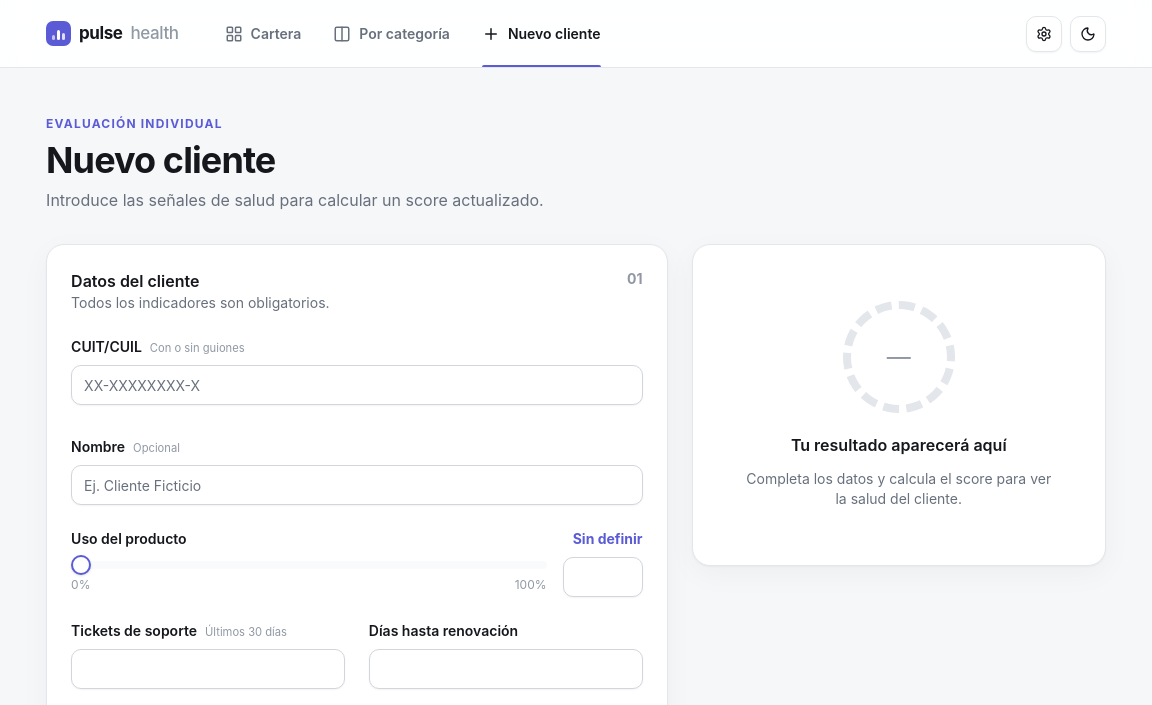
Test: Alta desde la app (US1, spec 004) › usa Cliente nuevo si el cliente no tiene nombre
This screenshot has width=1152, height=705.
expect the heading "Datos del cliente" is shown: met, box [71, 271, 200, 291]
In the field labelled "CUIT/CUIL": (357, 385) [71, 365, 643, 405], type "20-90000024-4"
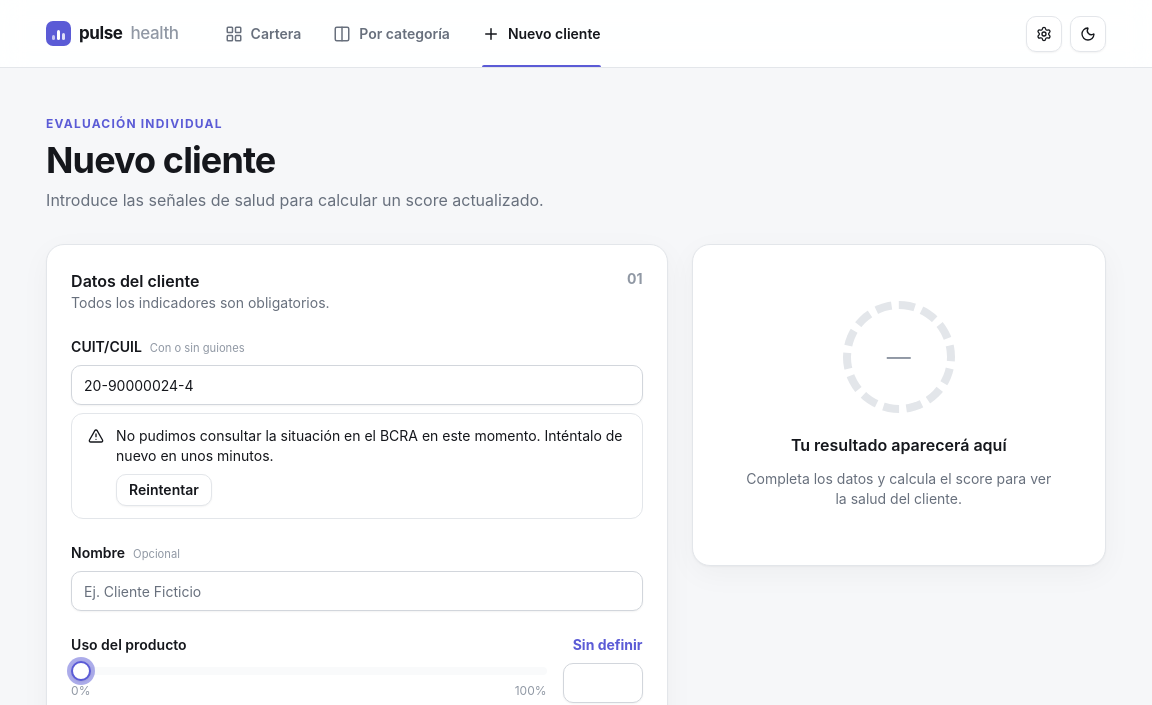
Press Arrowright
(page scrolled)
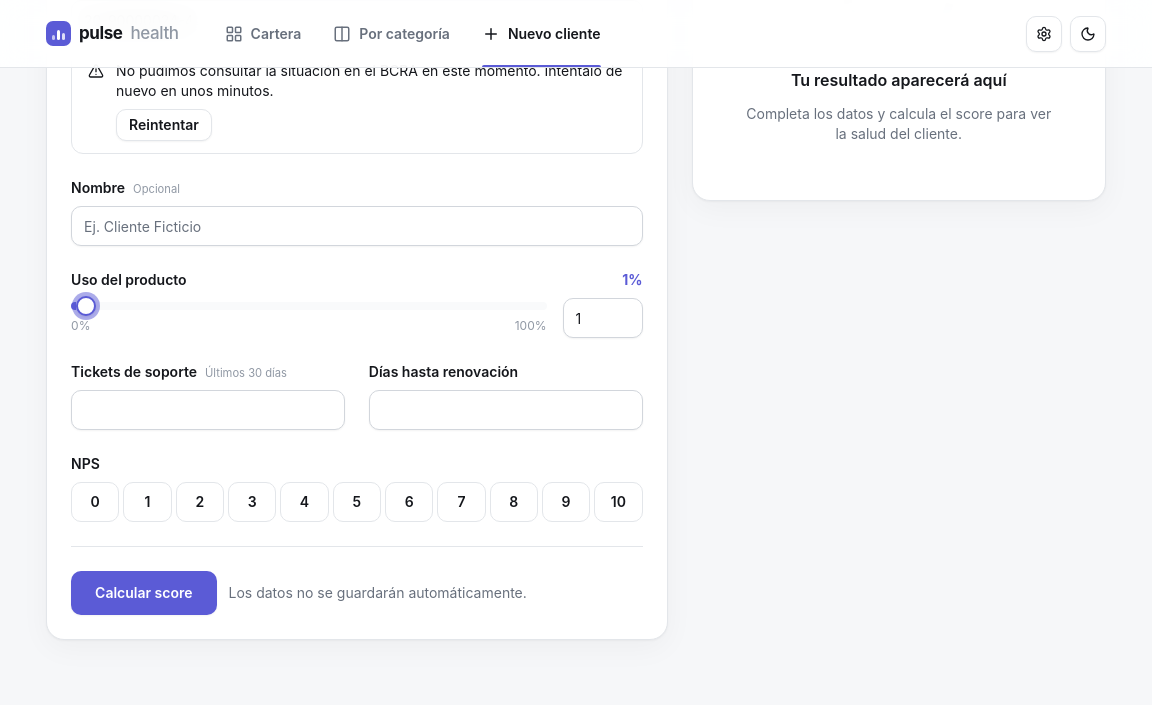
In the number field labelled "Tickets de soporte": (208, 410) [71, 390, 345, 430], type "0"
In the number field labelled "Días hasta renovación": (506, 410) [369, 390, 643, 430], type "300"
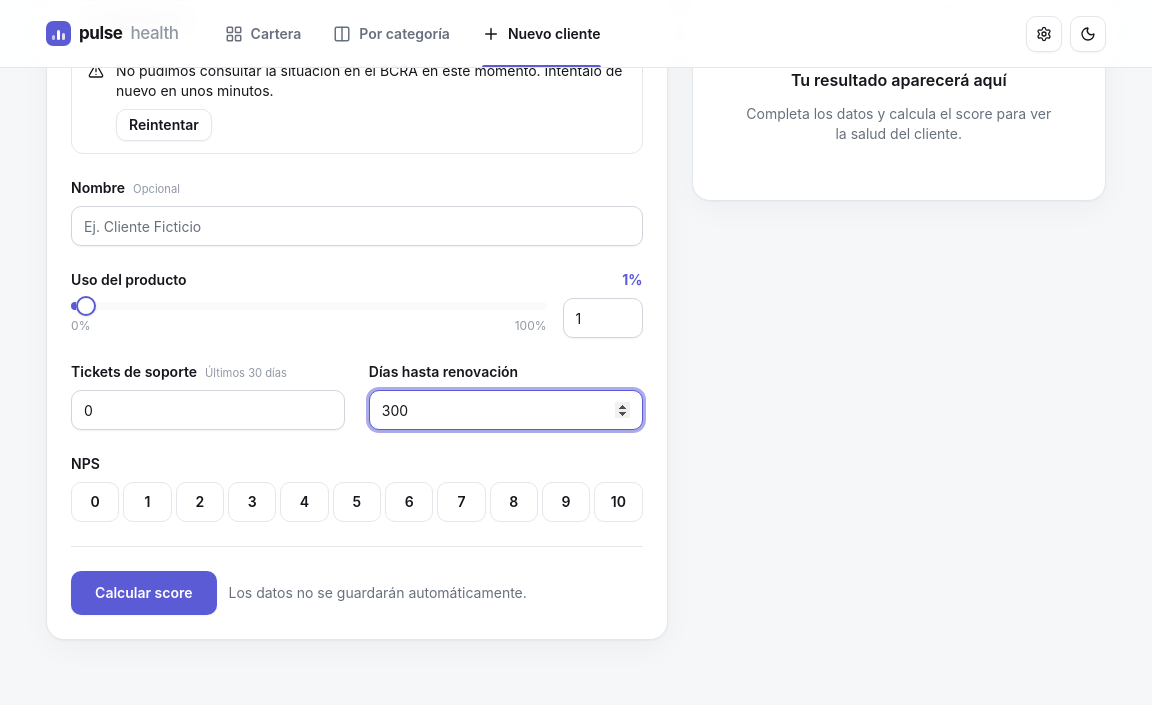
Click the radio button named "NPS 9": (566, 502) [542, 482, 590, 522]
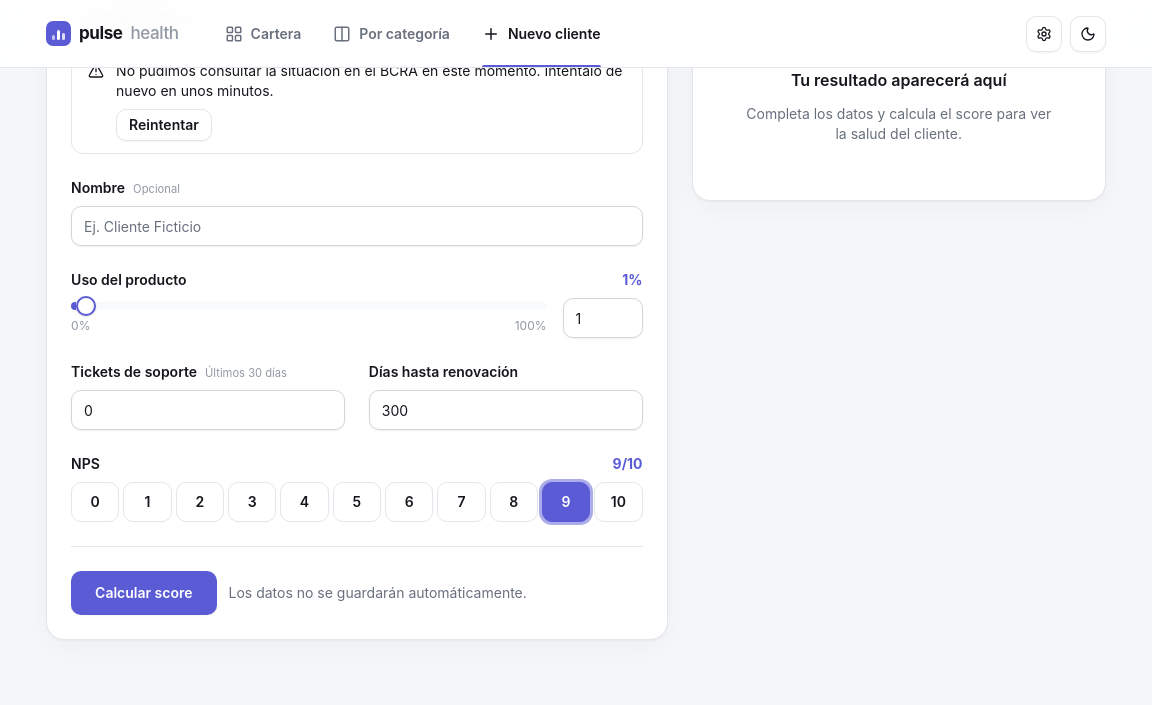
Click the button "Calcular score": (144, 593) [71, 571, 216, 615]
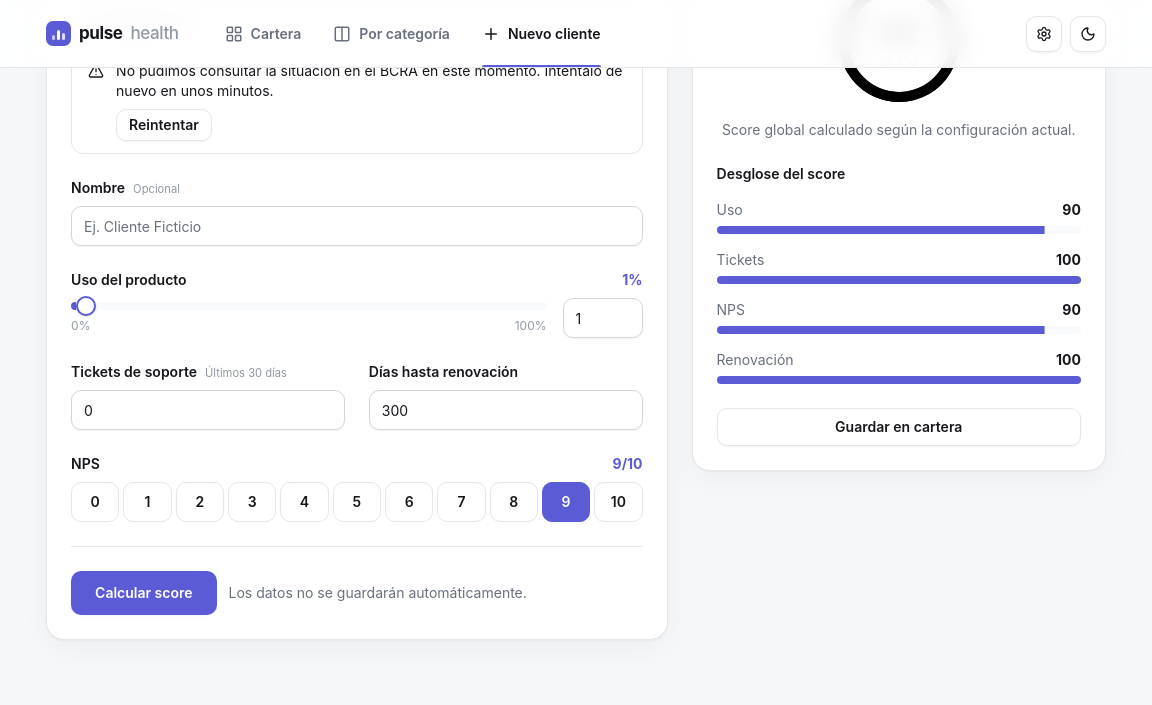
Click the button "Guardar en cartera": (899, 427) [717, 408, 1081, 446]
(page scrolled)
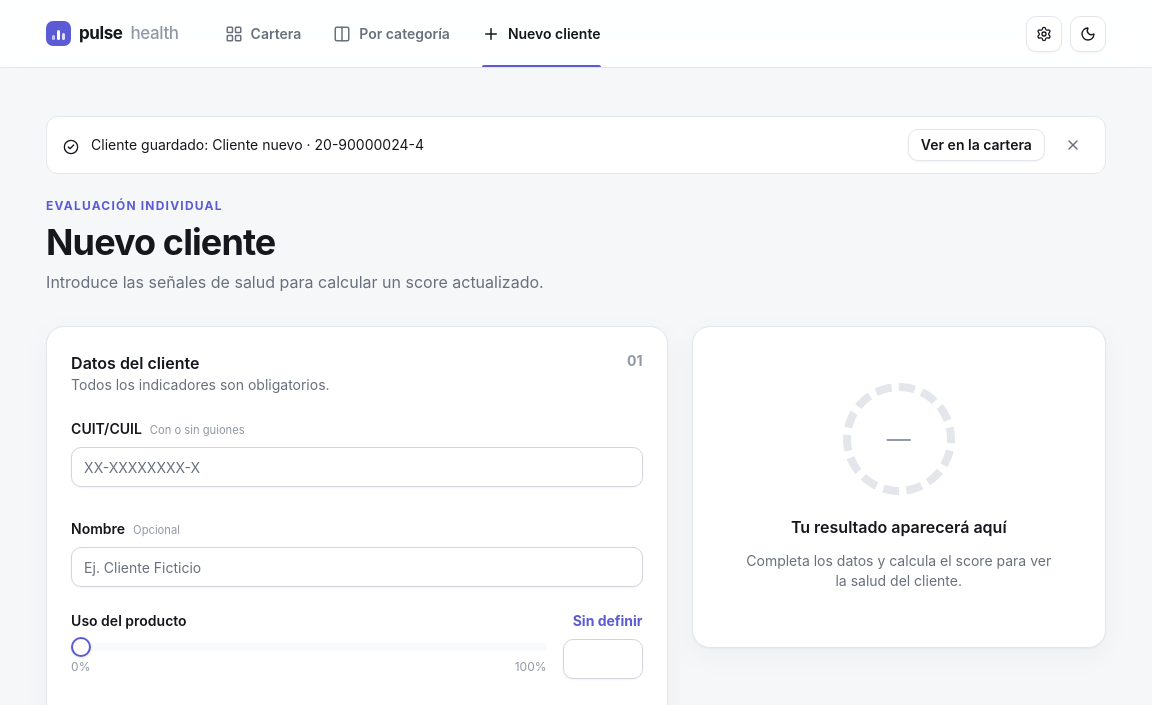
expect the text "Cliente guardado: Cliente nuevo · 20-90000024-4" is shown: met, box [91, 136, 424, 153]
